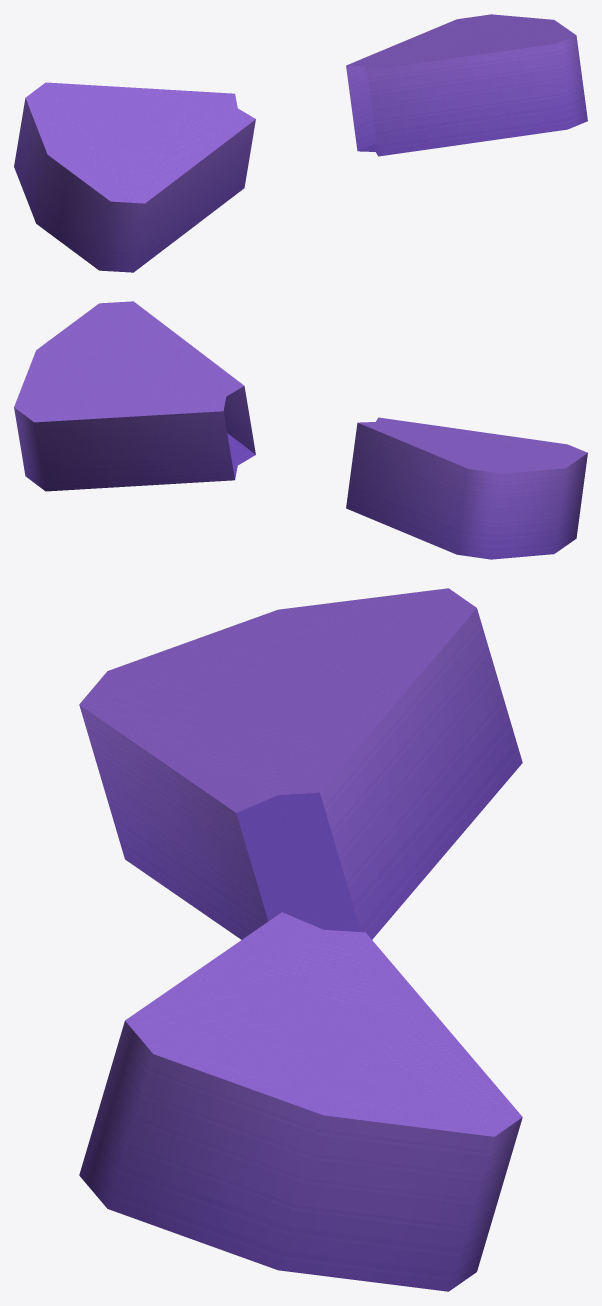
The model's file is fan-alt-col_001.glb.
3 renders of one model, top to bottom at view 1: azimuth 30°, elevation 25°; view 2: azimuth 150°, elevation 25°; view 3: azimuth 270°, elevation 25°, orthographic. The views are drawn at different scales.
Parts seen in each view (by area): view 1: fan-alt-col.001; view 2: fan-alt-col.001; view 3: fan-alt-col.001.
Part boxes in pixels (x1,y1,x2,y2): fan-alt-col.001: [14, 14, 587, 272]; fan-alt-col.001: [14, 301, 587, 559]; fan-alt-col.001: [79, 588, 522, 1291].
Size of the model in its own units: 0.6765 by 0.1568 by 0.2507.
Materials: 1 (1 with a texture image).
